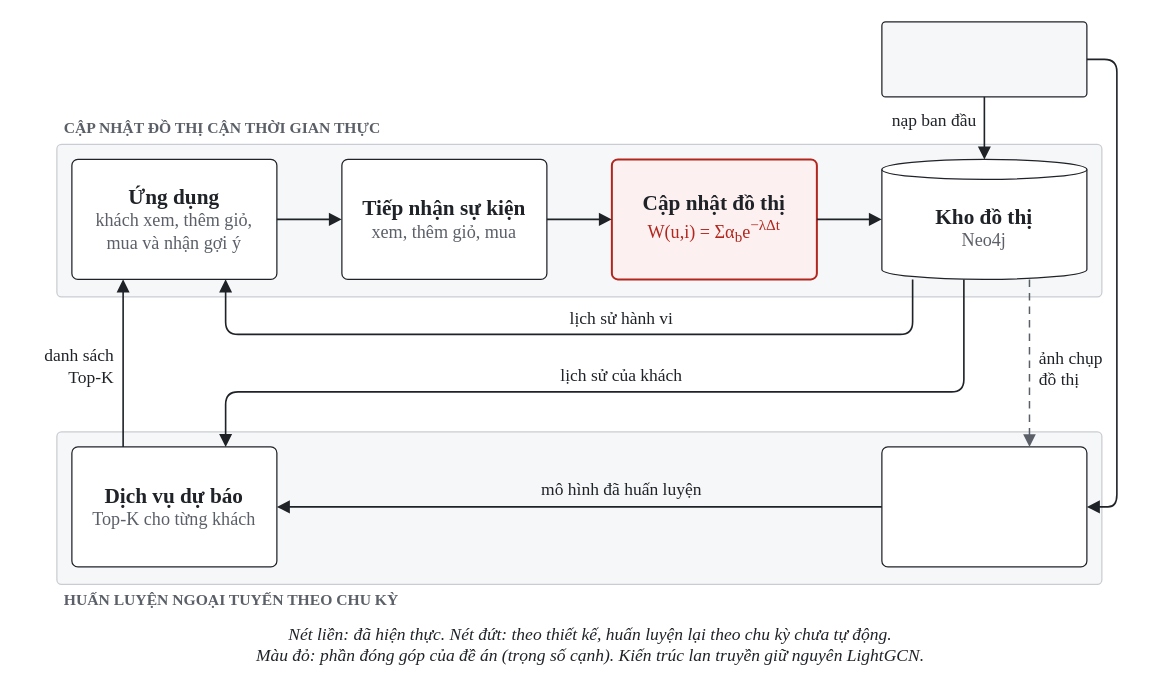
Image size: 1153x694. Some labels were removed from this diagram. The shapes that lost their labels are listed below. From the top down, each one's centre as x and y in pixels, then its label:
the point at 984,59: Dữ liệu Retail Rocket
the point at 984,506: Huấn luyện BT-DKGRec-GCN GCN 3 lớp, BPR
